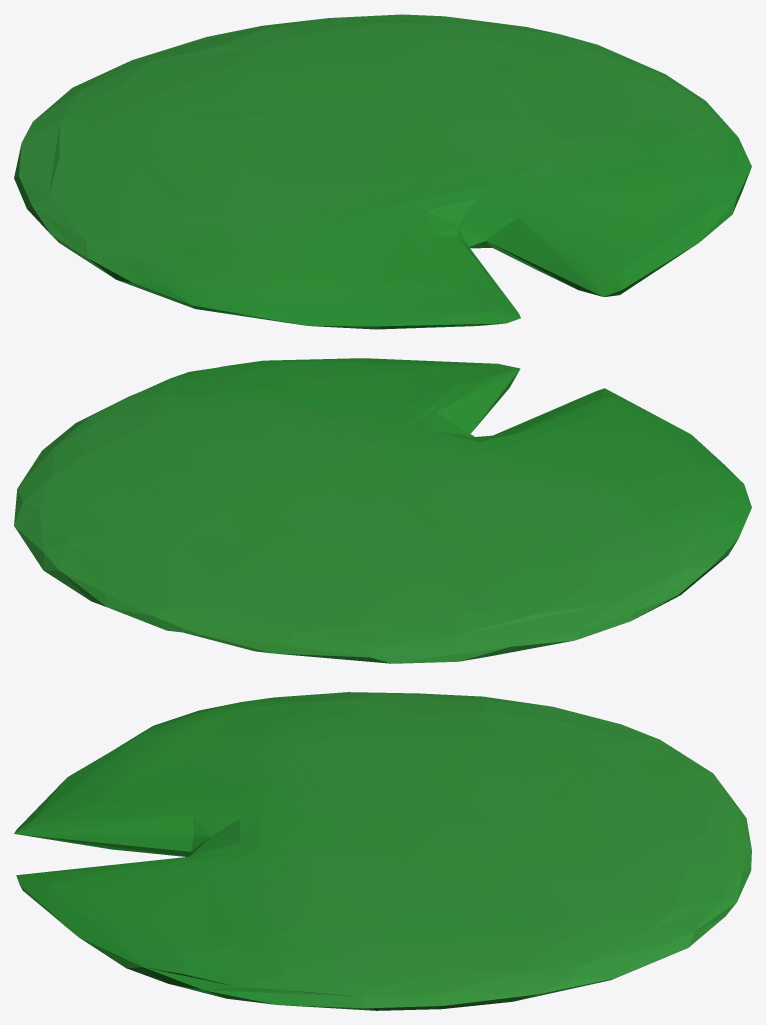
File: lilypad.glb
The picture shows the model from 3 angles, top to bottom: view 1: azimuth 30°, elevation 25°; view 2: azimuth 150°, elevation 25°; view 3: azimuth 270°, elevation 25°; orthographic projection. The views are drawn at different scales.
Visible parts, largest first — view 1: Quad Sphere split; view 2: Quad Sphere split; view 3: Quad Sphere split.
Boxes of the visible parts, x1=… form: Quad Sphere split: x1=14, y1=14, x2=751, y2=329; Quad Sphere split: x1=14, y1=358, x2=751, y2=663; Quad Sphere split: x1=14, y1=692, x2=751, y2=1010.
Size of the model in its own units: 0.877 by 0.0627 by 0.8703.
